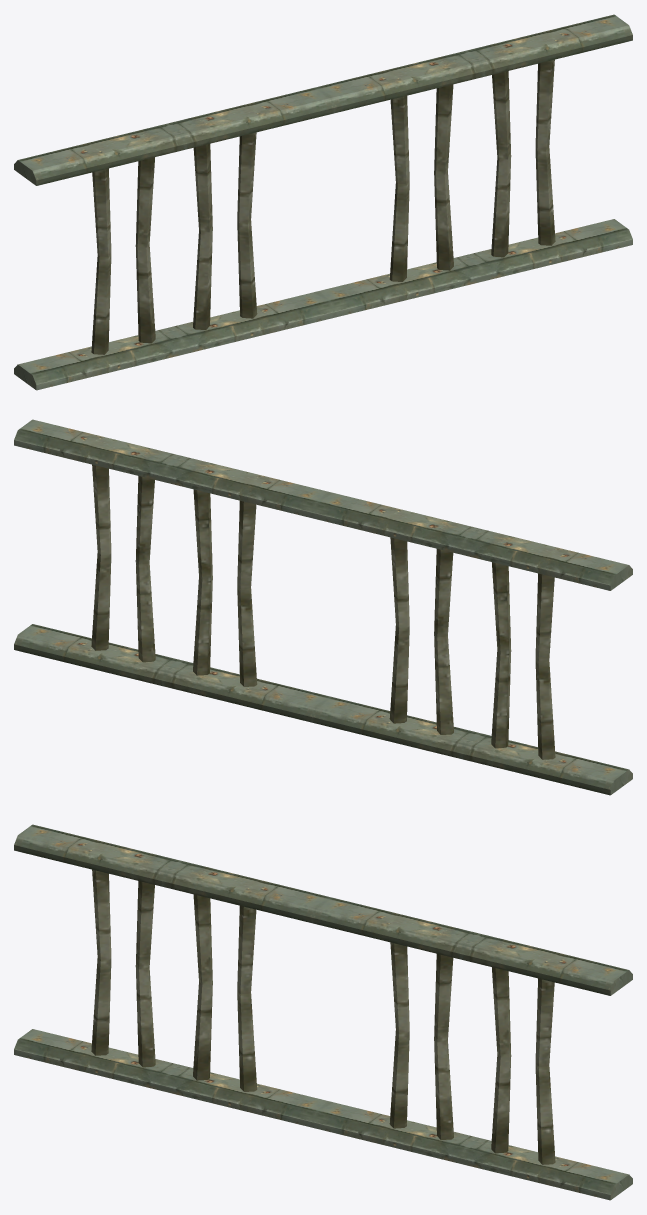
The model's file is fence-05.fbx.
The picture shows the model from 3 angles, top to bottom: view 1: azimuth 30°, elevation 25°; view 2: azimuth 150°, elevation 25°; view 3: azimuth 330°, elevation 25°; orthographic projection.
Visible parts, largest first — view 1: Cube.181; view 2: Cube.181; view 3: Cube.181.
Part boxes in pixels (x1,y1,x2,y2): Cube.181: (14, 14, 632, 390); Cube.181: (14, 419, 632, 795); Cube.181: (14, 824, 632, 1200).
Size of the model in its own units: 2 by 0.6948 by 0.13.
